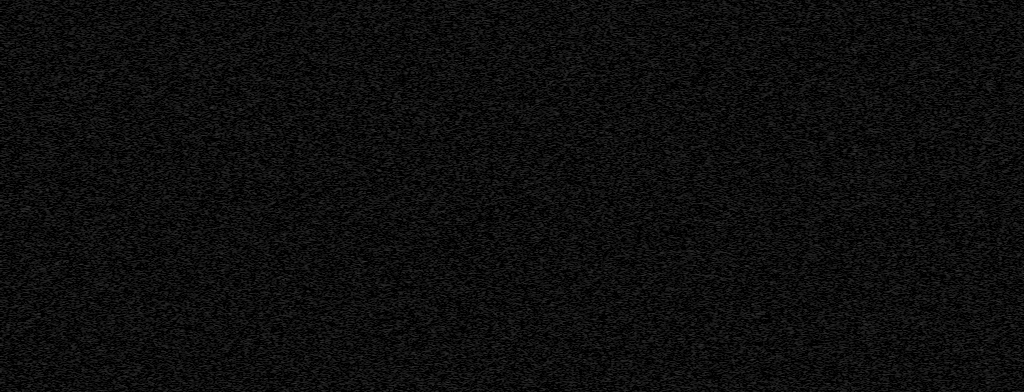wv_cw: (121, 0, 126, 392), (79, 0, 84, 354), (34, 0, 38, 392), (79, 357, 84, 392)
wv_lsb: (479, 134, 483, 155), (480, 261, 483, 265), (480, 68, 483, 71), (480, 55, 483, 58)
wv_wbfm: (508, 0, 525, 392)
